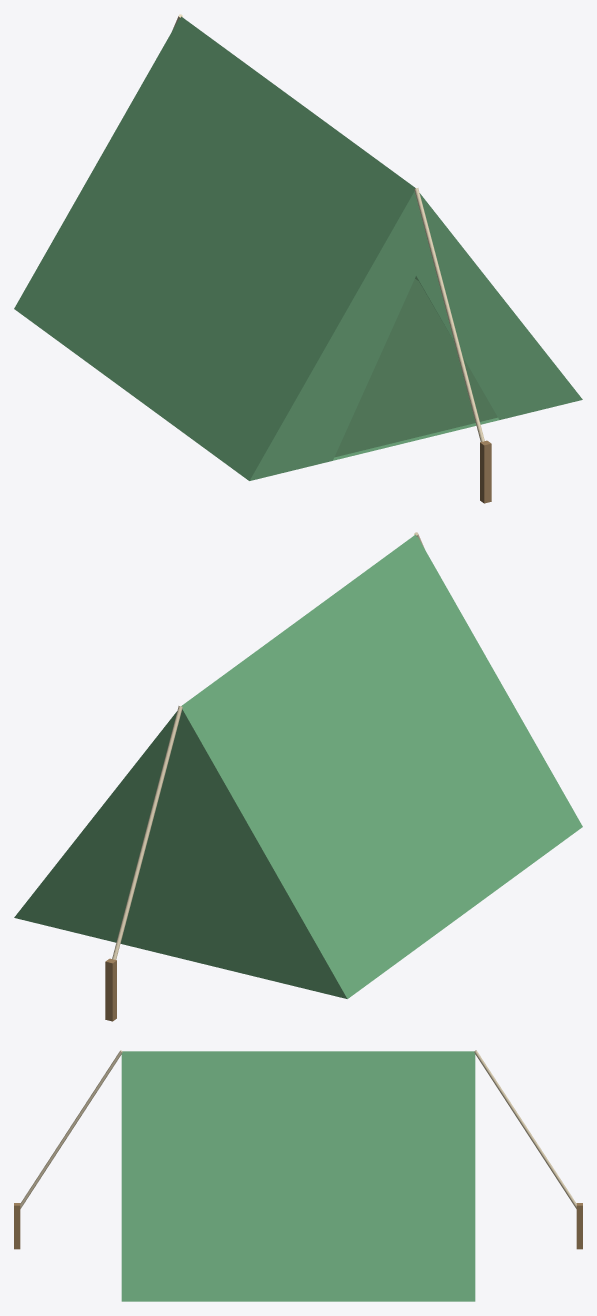
File: tent.glb
3 renders of one model, top to bottom at view 1: azimuth 30°, elevation 25°; view 2: azimuth 150°, elevation 25°; view 3: azimuth 270°, elevation 25°, orthographic. The views are drawn at different scales.
Visible parts, largest first — view 1: Tent; view 2: Tent; view 3: Tent.
Part boxes in pixels (left/top/right/bottom): Tent: left=14, top=14, right=582, bottom=503; Tent: left=14, top=532, right=582, bottom=1021; Tent: left=14, top=1050, right=582, bottom=1301.
Size of the model in its own units: 1.8 by 1.36 by 3.54.
